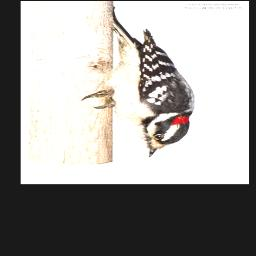Woodpecker: (82, 29, 195, 158)
